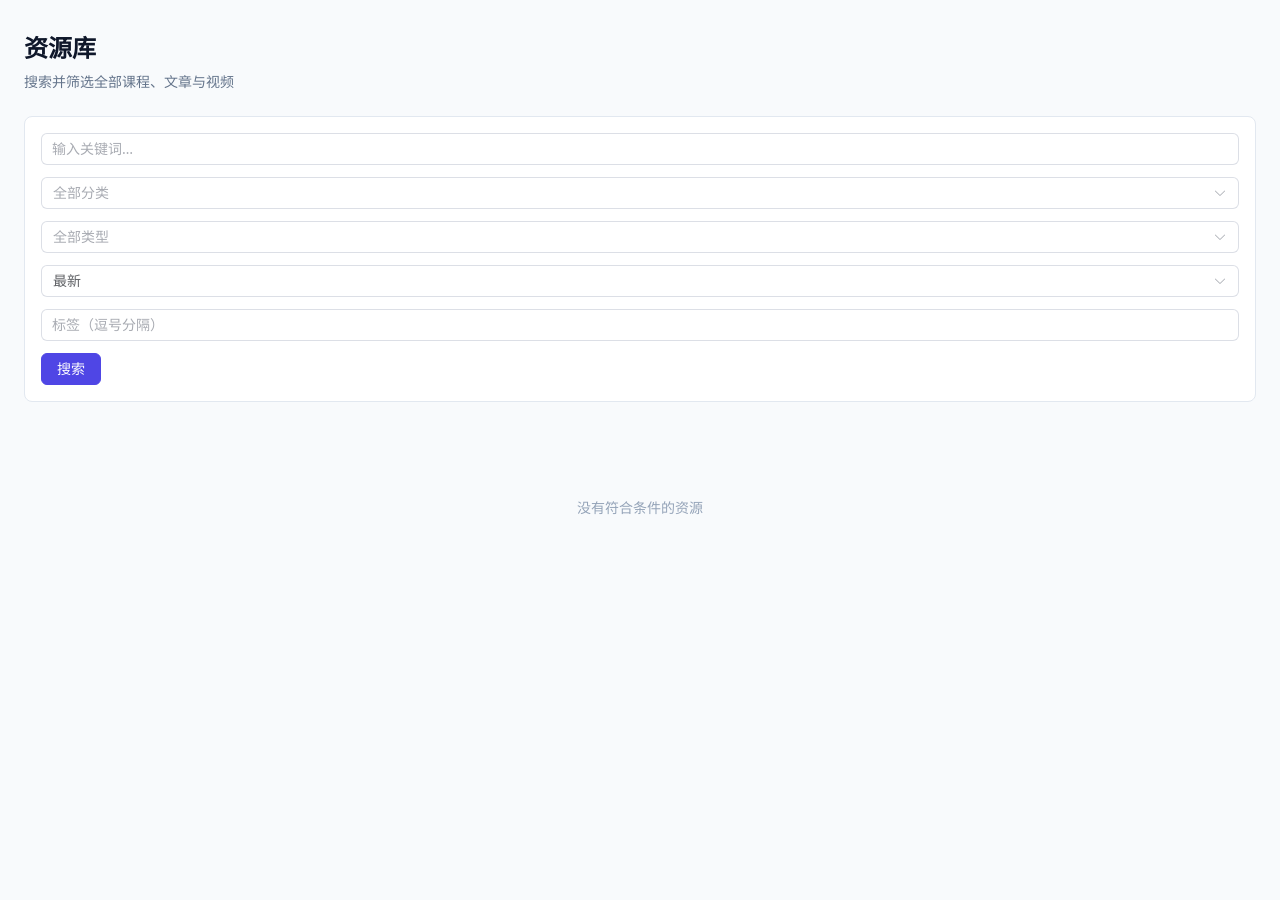
it: SearchPage › 首屏本地无结果时自动续拉 B 站，无需用户滚动
In the field with placeholder "输入关键词…": [640, 149] box x1=52 y1=134 x2=1228 y2=164, type "机器学习"
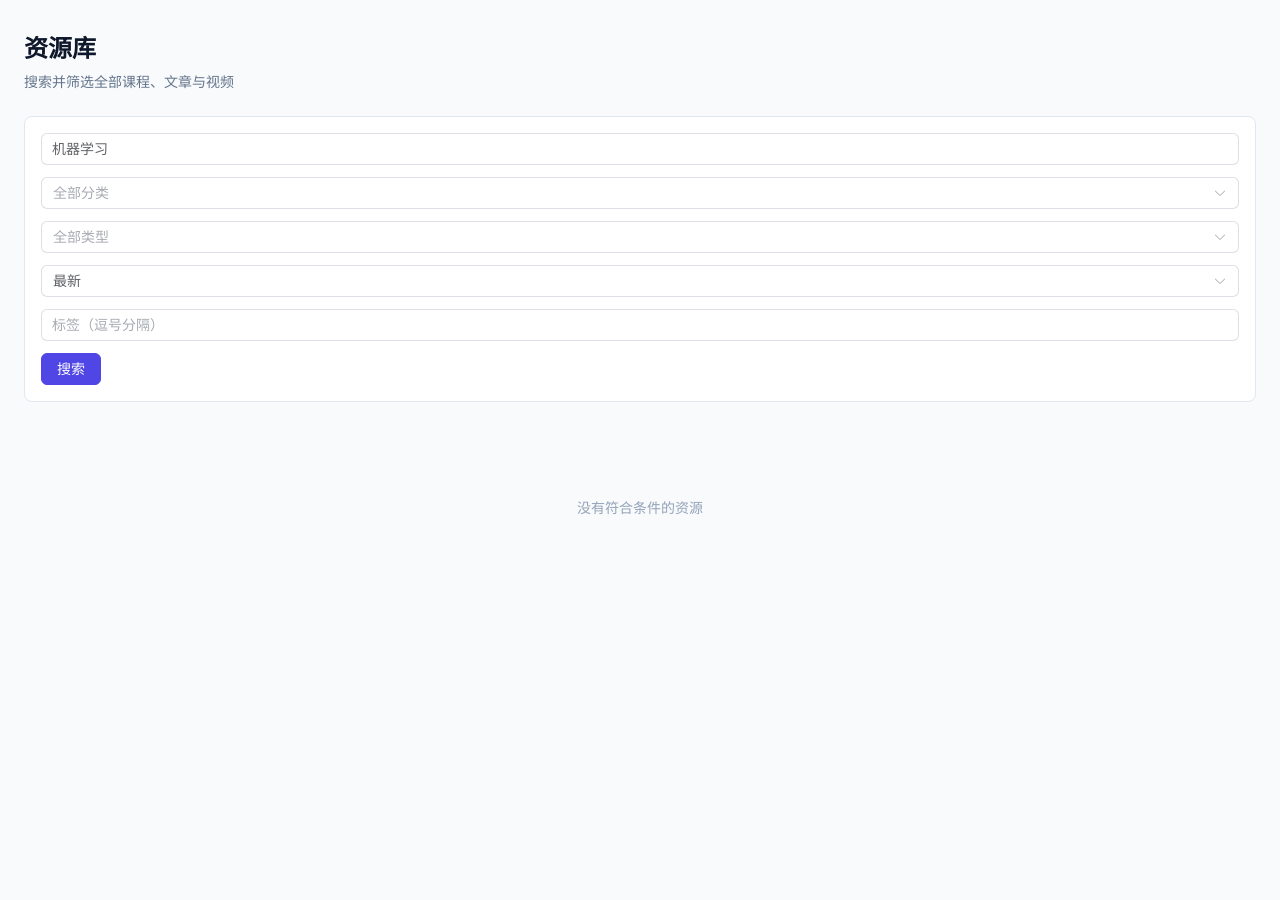
Press Enter in the field with placeholder "输入关键词…", box x1=52 y1=134 x2=1228 y2=164
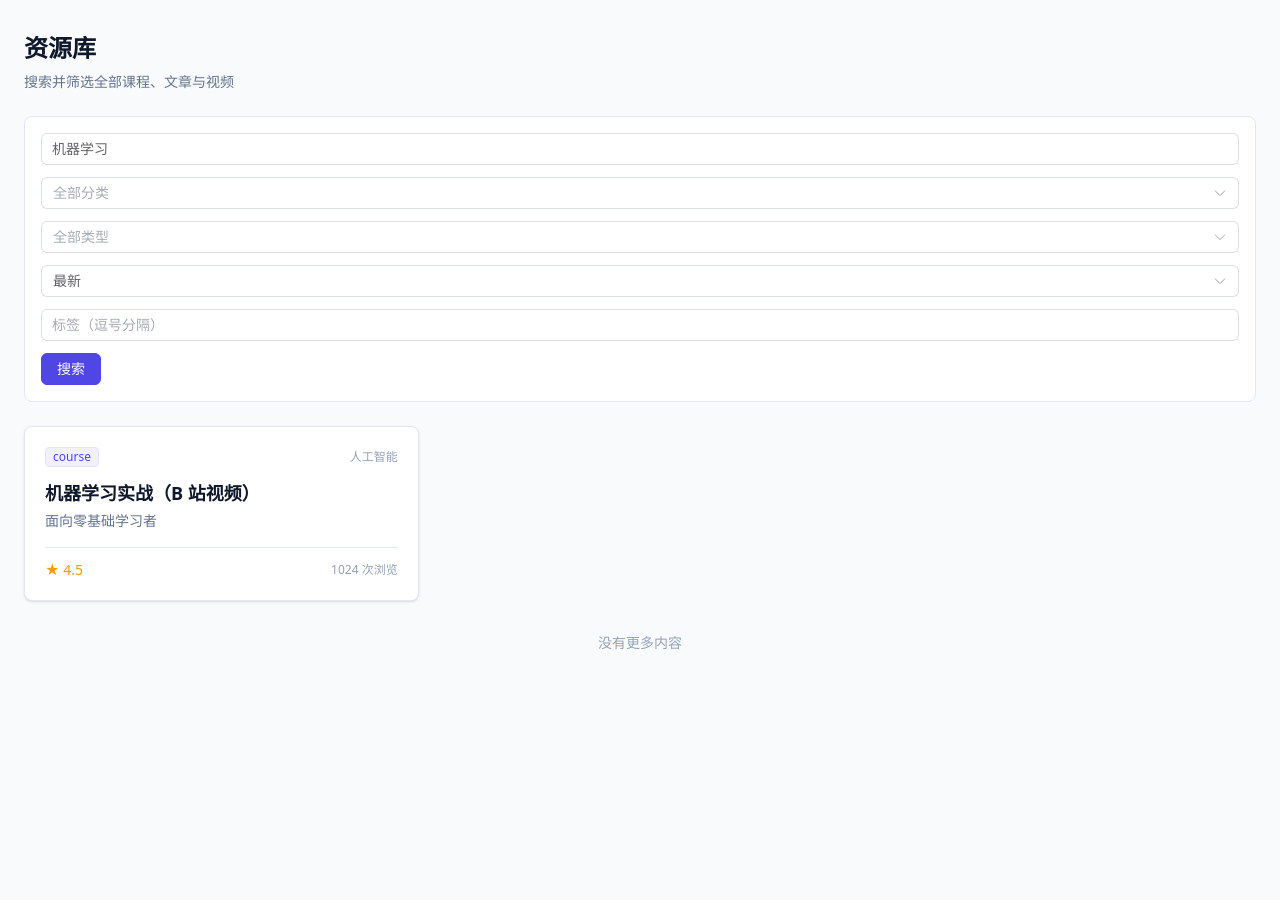
Result: the text "机器学习实战（B 站视频）" is shown at x1=45 y1=481 x2=260 y2=505
